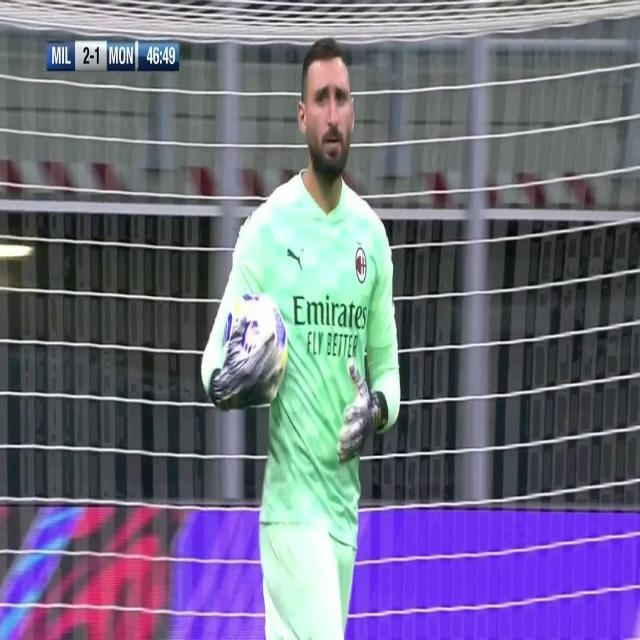ball: (224, 290, 296, 402)
goalkeeper: (198, 26, 412, 640)
